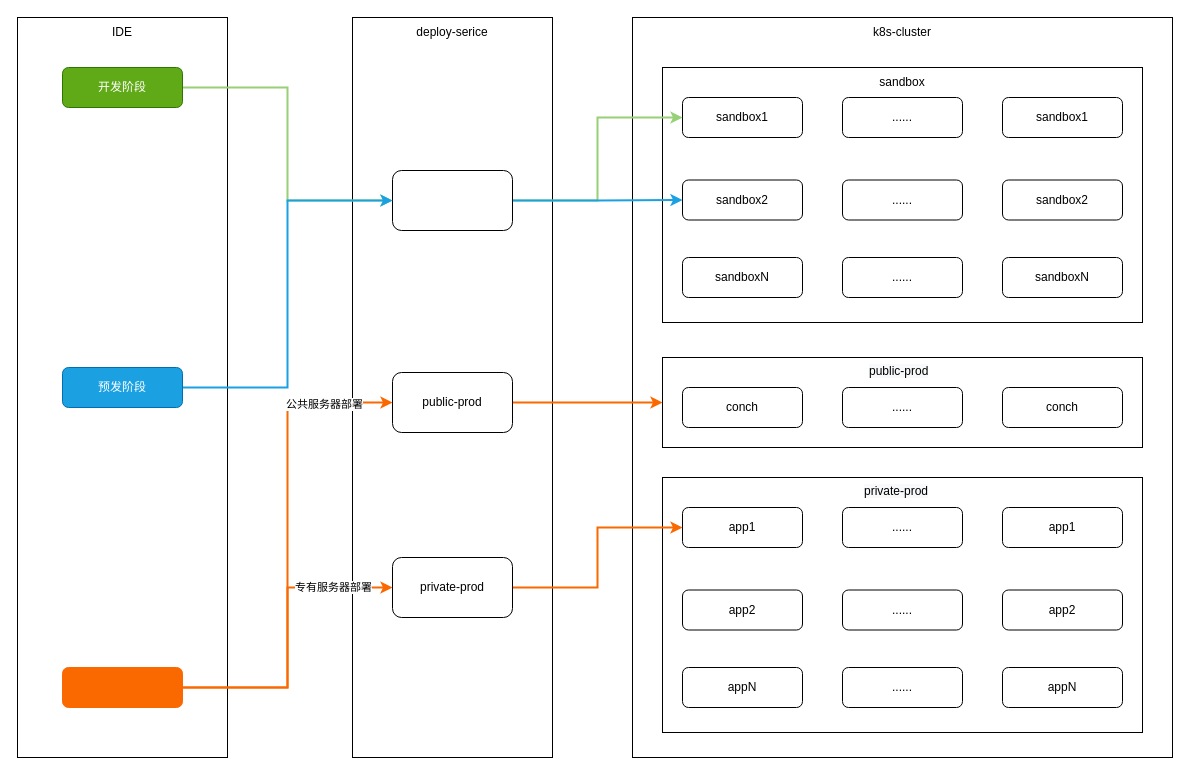
Some shapes in this 1190 by 775 pixel diagram are drawn without their labels. Each missing label, with the centre of its shape:
sanbox: the point at 452,200
发布阶段: the point at 122,687
